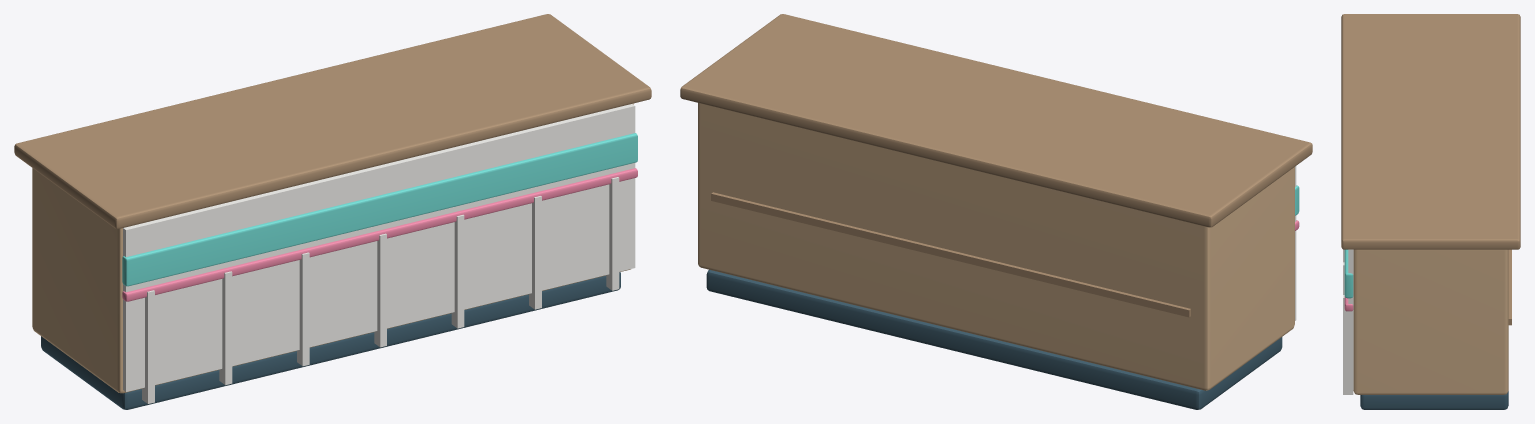
Rendered from Counter.fbx.
3 views of the same model, side by side, from view 1: azimuth 30°, elevation 25°; view 2: azimuth 150°, elevation 25°; view 3: azimuth 270°, elevation 25° (orthographic). The views are drawn at different scales.
Parts seen in each view (by area): view 1: Counter; view 2: Counter; view 3: Counter.
Boxes of the visible parts, <box> form: Counter: <box>14,14,651,409</box>; Counter: <box>680,14,1312,409</box>; Counter: <box>1341,14,1520,409</box>.
Bounding box in the file's own units: 3.12 × 1.15 × 1.04.
